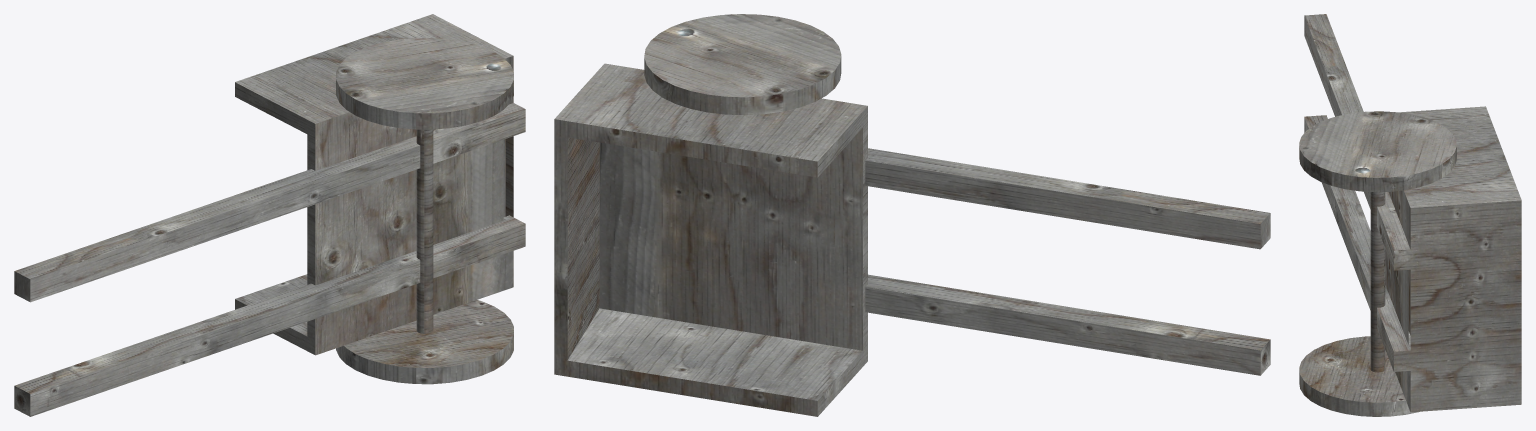
File: cart.dae
3 views of the same model, side by side, from view 1: azimuth 30°, elevation 25°; view 2: azimuth 150°, elevation 25°; view 3: azimuth 270°, elevation 25° (orthographic). The views are drawn at different scales.
Parts seen in each view (by area): view 1: Cylinder.034; view 2: Cylinder.034; view 3: Cylinder.034.
Part boxes in pixels (x1=…): Cylinder.034: x1=14, y1=14, x2=525, y2=416; Cylinder.034: x1=554, y1=14, x2=1270, y2=416; Cylinder.034: x1=1299, y1=14, x2=1521, y2=416.
Bounding box in the file's own units: 4.97 × 1.98 × 2.34.
